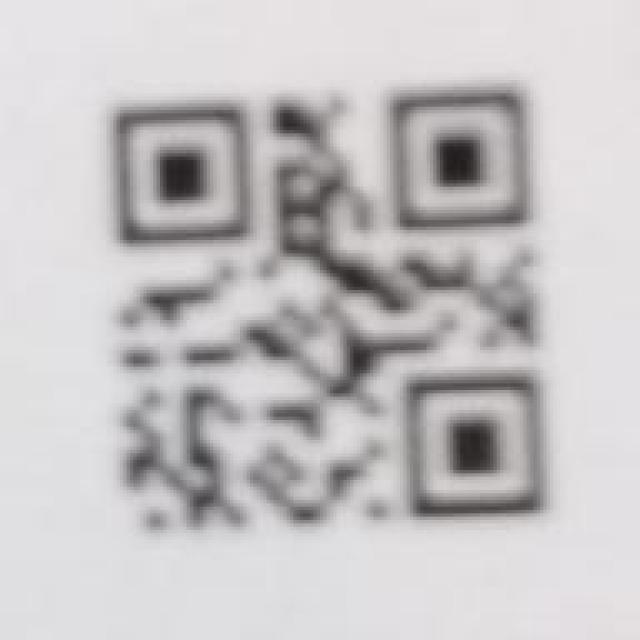QR_CODE: (95, 46, 570, 552)
